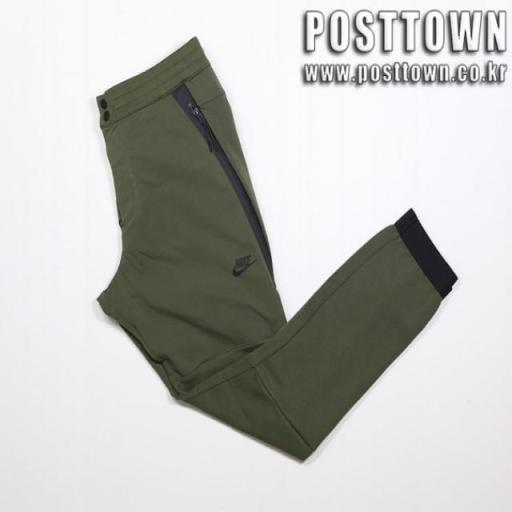Nike: (232, 264, 254, 277), (236, 255, 250, 270)
